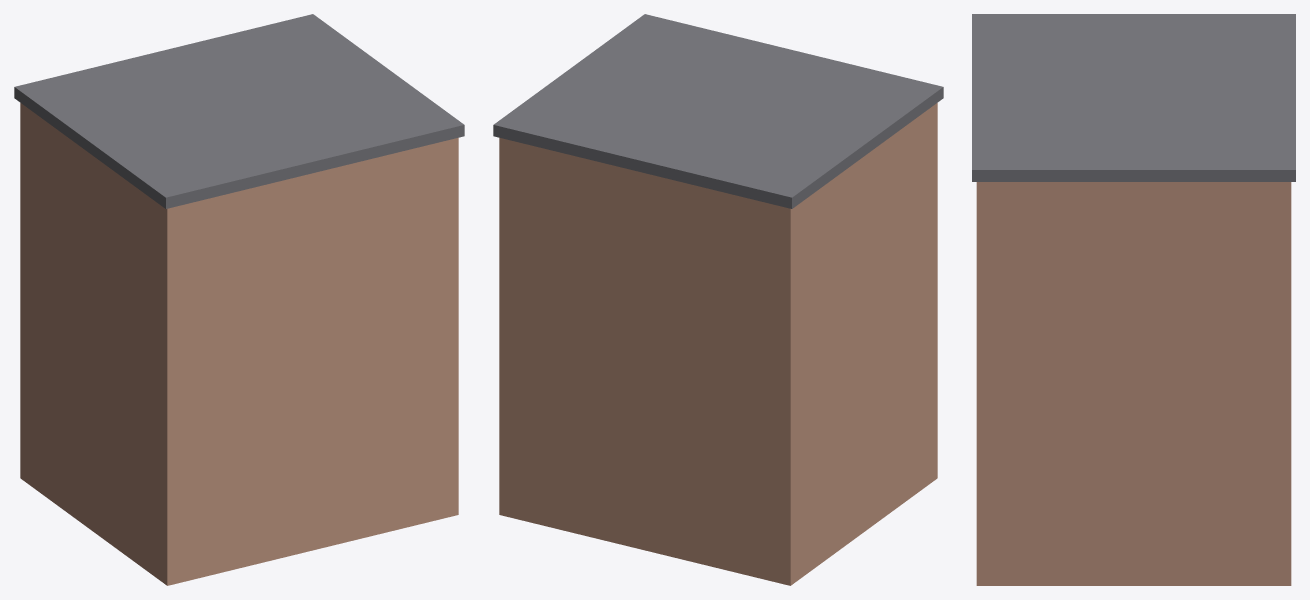
Rendered from building_mid.glb.
The picture shows the model from 3 angles, left to right: view 1: azimuth 30°, elevation 25°; view 2: azimuth 150°, elevation 25°; view 3: azimuth 270°, elevation 25°; orthographic projection. The views are drawn at different scales.
Visible parts, largest first — view 1: Cube, Cube.001; view 2: Cube, Cube.001; view 3: Cube, Cube.001.
Part boxes in pixels (<box>): Cube: <box>20,103,458,585</box>; Cube.001: <box>14,14,464,208</box>; Cube: <box>499,103,937,585</box>; Cube.001: <box>493,14,943,208</box>; Cube: <box>976,182,1291,585</box>; Cube.001: <box>972,14,1295,181</box>.
Bounding box in the file's own units: 16.4 × 20.5 × 14.4.
